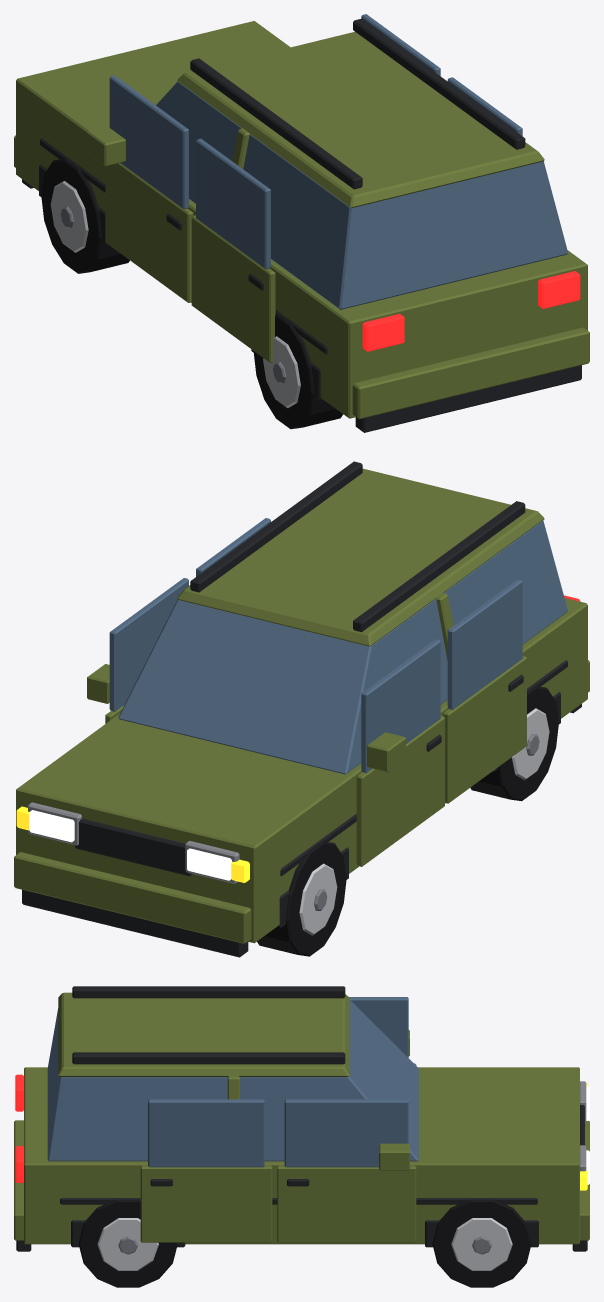
The model's file is car_suv.glb.
3 renders of one model, top to bottom at view 1: azimuth 30°, elevation 25°; view 2: azimuth 150°, elevation 25°; view 3: azimuth 270°, elevation 25°, orthographic. The views are drawn at different scales.
Visible parts, largest first — view 1: car_body, car_door_FL, car_door_RL, car_door_FR, car_door_RR; view 2: car_body, car_door_FL, car_door_RL, car_door_FR, car_door_RR; view 3: car_body, car_door_FR, car_door_RR, car_door_FL.
Part boxes in pixels (<box>): car_body: <box>14,18,589,432</box>; car_door_FL: <box>87,75,193,302</box>; car_door_RL: <box>191,138,275,362</box>; car_door_FR: <box>361,14,440,75</box>; car_door_RR: <box>447,77,522,135</box>; car_body: <box>14,461,589,957</box>; car_door_FL: <box>356,639,444,866</box>; car_door_RL: <box>443,579,526,803</box>; car_door_FR: <box>87,578,188,723</box>; car_door_RR: <box>196,518,270,576</box>; car_body: <box>14,986,589,1287</box>; car_door_FR: <box>277,1099,416,1242</box>; car_door_RR: <box>140,1099,272,1242</box>; car_door_FL: <box>349,997,416,1065</box>.
Size of the model in its own units: 2.34 by 1.93 by 4.64.
